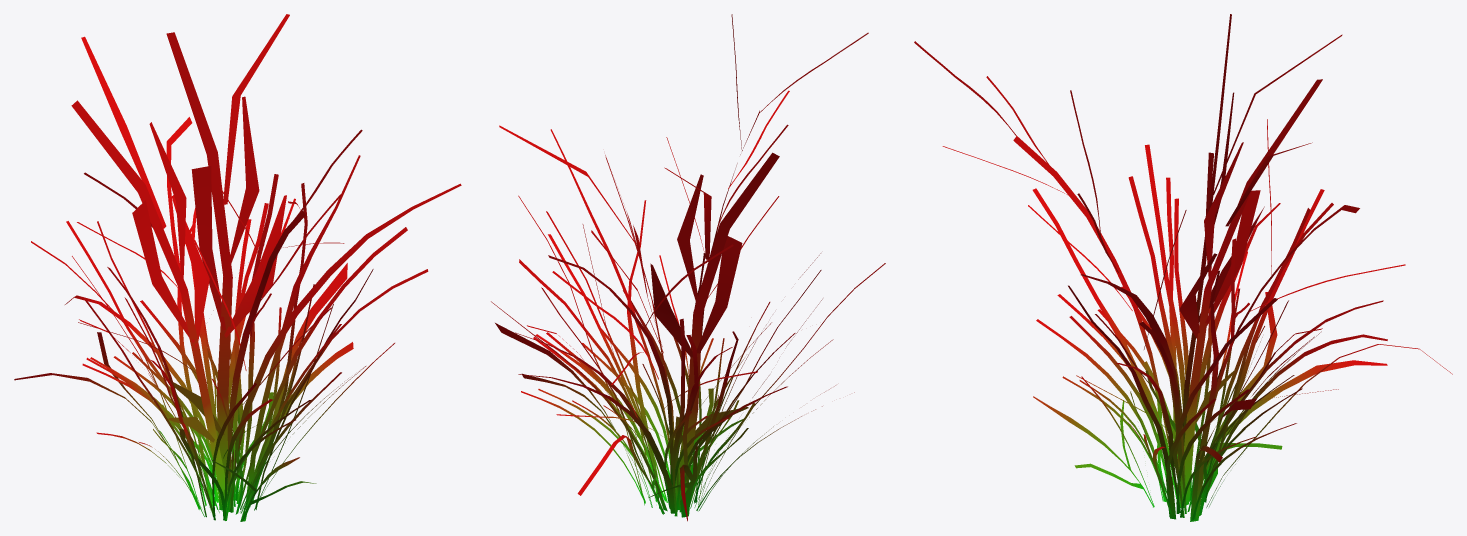
The model's file is Grass_A_Var1.FBX.
3 renders of one model, left to right at view 1: azimuth 30°, elevation 25°; view 2: azimuth 150°, elevation 25°; view 3: azimuth 270°, elevation 25°, orthographic. The views are drawn at different scales.
Visible parts, largest first — view 1: Grass_A_Var1_LOD0; view 2: Grass_A_Var1_LOD0; view 3: Grass_A_Var1_LOD0.
Part boxes in pixels (x1,y1,x2,y2): Grass_A_Var1_LOD0: (14, 14, 461, 521); Grass_A_Var1_LOD0: (491, 14, 885, 521); Grass_A_Var1_LOD0: (914, 14, 1452, 521).
Size of what is drawn, in the model's own units: 91.18 by 112 by 122.
